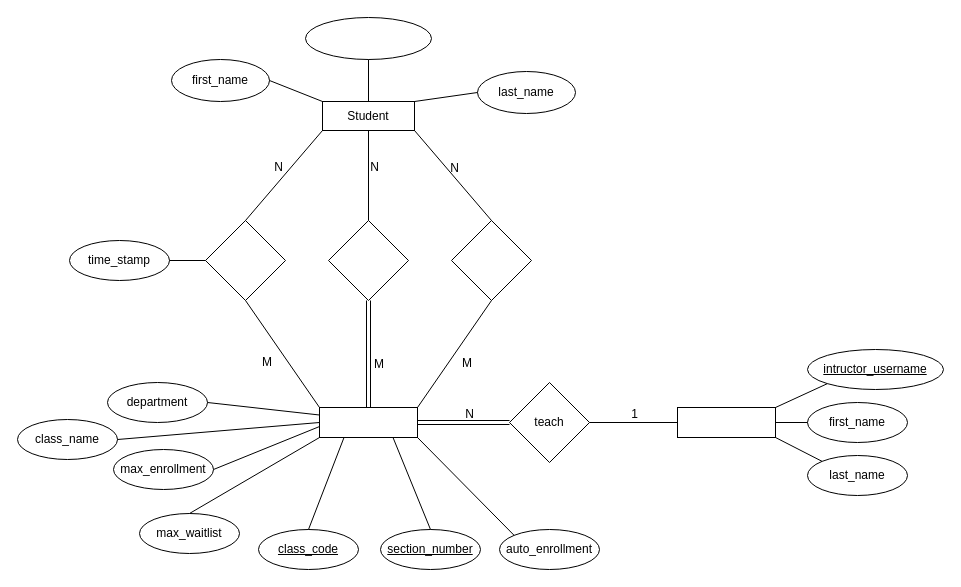
This 961x587 diagram has some shape labels left out. The shapes that lost their labels are listed below. From the top down, each one's centre as x and y in pixels, then its label:
At point 368,38: "student_username".
At point 245,260: "waitlist".
At point 368,260: "Enroll".
At point 491,260: "drop".
At point 368,422: "Class".
At point 726,422: "Instructor".
